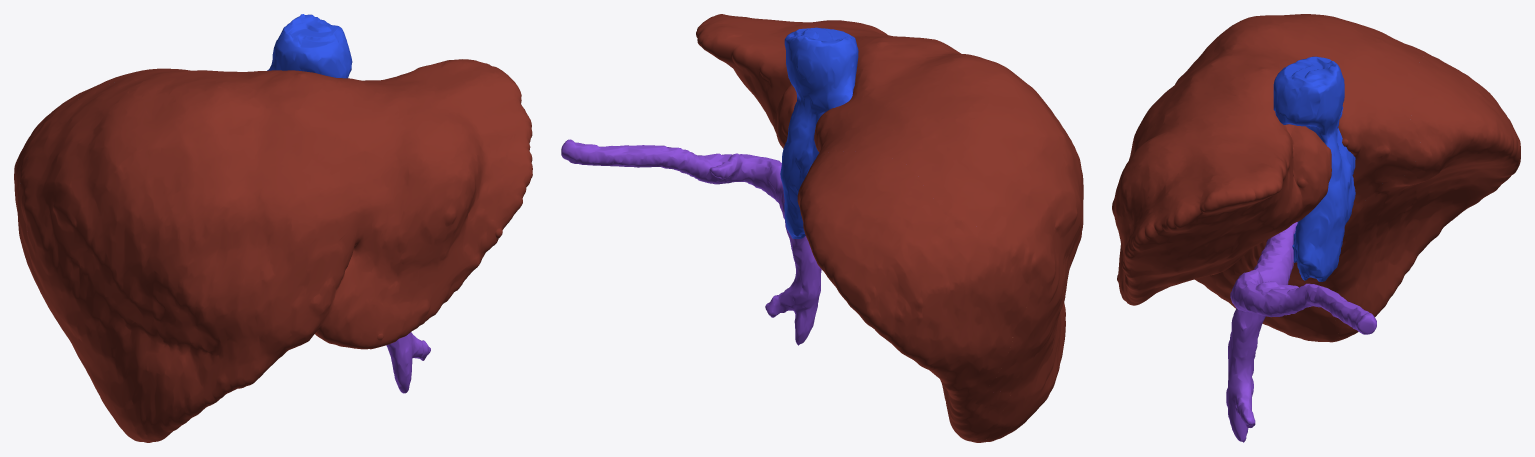
File: liver-m.glb
The picture shows the model from 3 angles, left to right: view 1: azimuth 30°, elevation 25°; view 2: azimuth 150°, elevation 25°; view 3: azimuth 270°, elevation 25°; orthographic projection.
Parts seen in each view (by area): view 1: liver_remnant, hepatic, liver_territory, portal; view 2: liver_remnant, liver_territory, portal, hepatic; view 3: liver_remnant, liver_territory, hepatic, portal.
Part boxes in pixels (x1,y1,x2,y2): liver_remnant: [20, 59, 532, 442]; hepatic: [267, 14, 352, 78]; liver_territory: [14, 68, 185, 392]; portal: [386, 332, 430, 393]; liver_remnant: [696, 14, 1083, 442]; liver_territory: [797, 151, 1032, 442]; portal: [561, 139, 821, 345]; hepatic: [780, 27, 858, 238]; liver_remnant: [1112, 14, 1441, 342]; liver_territory: [1325, 55, 1520, 338]; hepatic: [1273, 56, 1355, 281]; portal: [1226, 222, 1376, 442].
Size of the model in its own units: 256 by 187 by 192.
